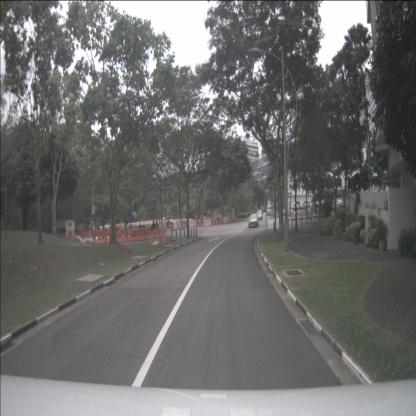human-pedestrian-adult: (311, 204, 314, 214)
movable_object-barrier: (92, 230, 106, 244), (159, 227, 167, 246), (147, 229, 155, 247), (106, 230, 116, 244), (127, 229, 137, 242), (116, 231, 127, 242), (136, 228, 145, 241), (154, 227, 160, 246), (138, 225, 146, 237), (145, 224, 153, 235), (145, 228, 152, 239), (196, 218, 204, 227), (159, 222, 166, 232), (189, 218, 196, 227), (166, 221, 173, 230), (180, 221, 187, 229), (173, 221, 180, 229), (204, 218, 211, 226), (216, 217, 223, 224), (223, 216, 229, 224), (154, 223, 160, 230)
vehicle-car: (249, 213, 258, 228), (256, 209, 263, 220), (335, 199, 344, 207)
vehicle-truck: (266, 201, 272, 216)
